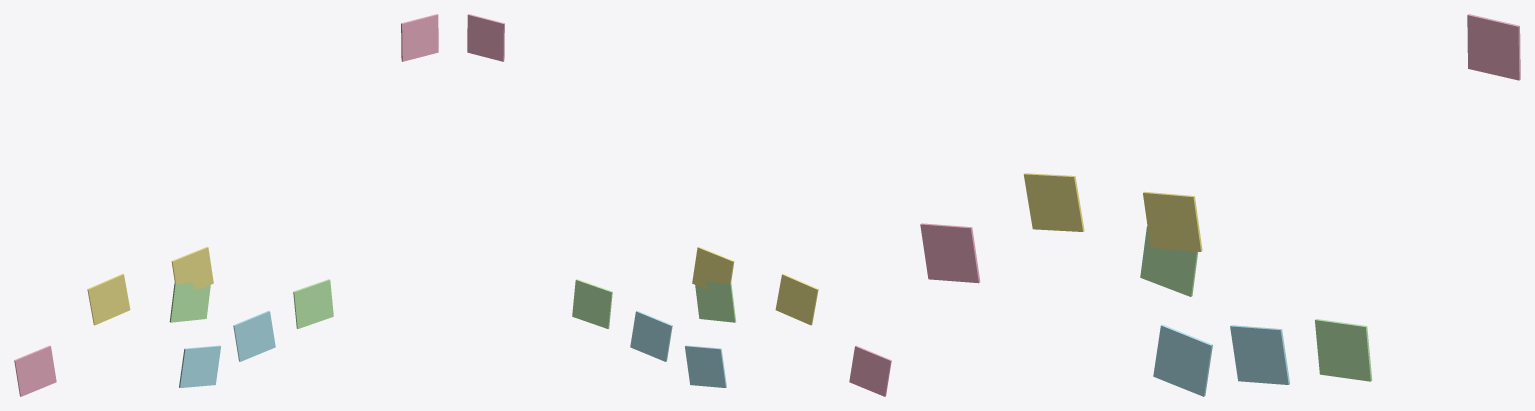
Rendered from sd_postits.glb.
3 renders of one model, left to right at view 1: azimuth 30°, elevation 25°; view 2: azimuth 150°, elevation 25°; view 3: azimuth 330°, elevation 25°, orthographic. The views are drawn at different scales.
Visible parts, largest first — view 1: Cube; view 2: Cube; view 3: Cube.
Part boxes in pixels (bbox=[...]): Cube: bbox=[14, 14, 438, 396]; Cube: bbox=[467, 14, 891, 396]; Cube: bbox=[920, 14, 1520, 396].
Size of the model in its own units: 0.9351 by 0.6666 by 0.004.
